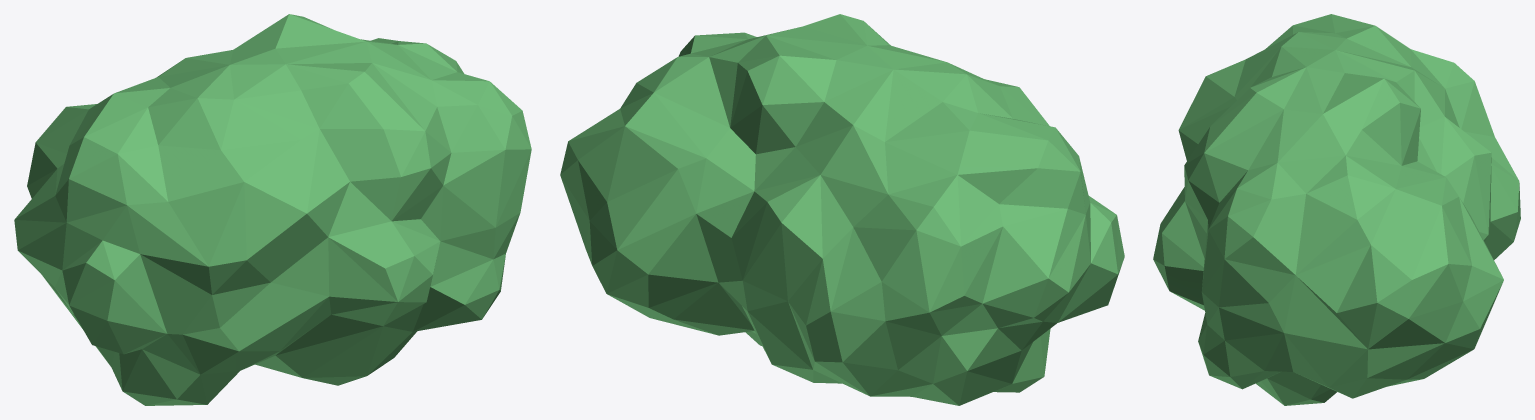
Rendered from bush_1.glb.
3 views of the same model, side by side, from view 1: azimuth 30°, elevation 25°; view 2: azimuth 150°, elevation 25°; view 3: azimuth 270°, elevation 25° (orthographic). The views are drawn at different scales.
Parts seen in each view (by area): view 1: bush1; view 2: bush1; view 3: bush1.
Boxes of the visible parts, x1,y1,x2,y2 form: bush1: (14, 14, 531, 405); bush1: (560, 14, 1124, 405); bush1: (1153, 14, 1520, 405).
Bounding box in the file's own units: 1.67 × 1.1 × 1.17.
